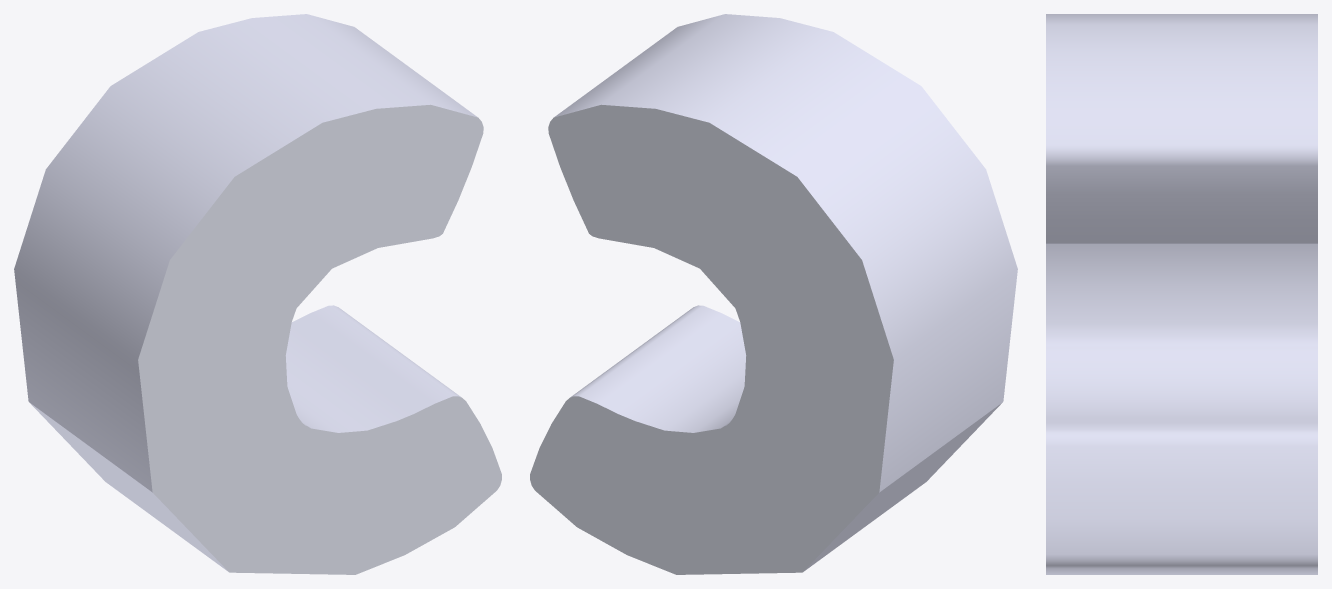
Rendered from C_Zyzol_Grey.glb.
The picture shows the model from 3 angles, left to right: view 1: azimuth 30°, elevation 25°; view 2: azimuth 150°, elevation 25°; view 3: azimuth 270°, elevation 25°; orthographic projection. The views are drawn at different scales.
Visible parts, largest first — view 1: c_Zyzol_Grey; view 2: c_Zyzol_Grey; view 3: c_Zyzol_Grey.
Part boxes in pixels (x1,y1,x2,y2): c_Zyzol_Grey: (14, 14, 501, 574); c_Zyzol_Grey: (530, 14, 1017, 574); c_Zyzol_Grey: (1046, 14, 1317, 574).
Size of what is drawn, in the model's own units: 0.0762 by 0.0923 by 0.045.
Materials: 2 (2 with a texture image).
